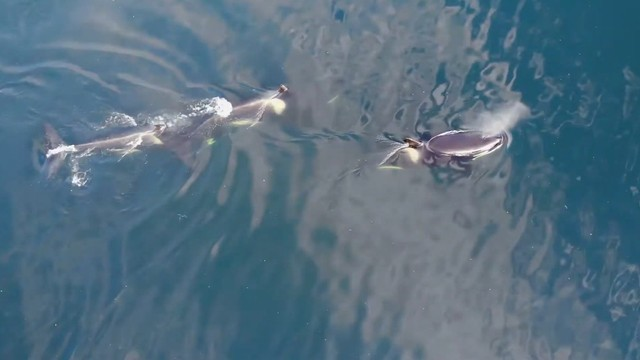whale: (34, 69, 309, 192), (313, 101, 511, 207)
